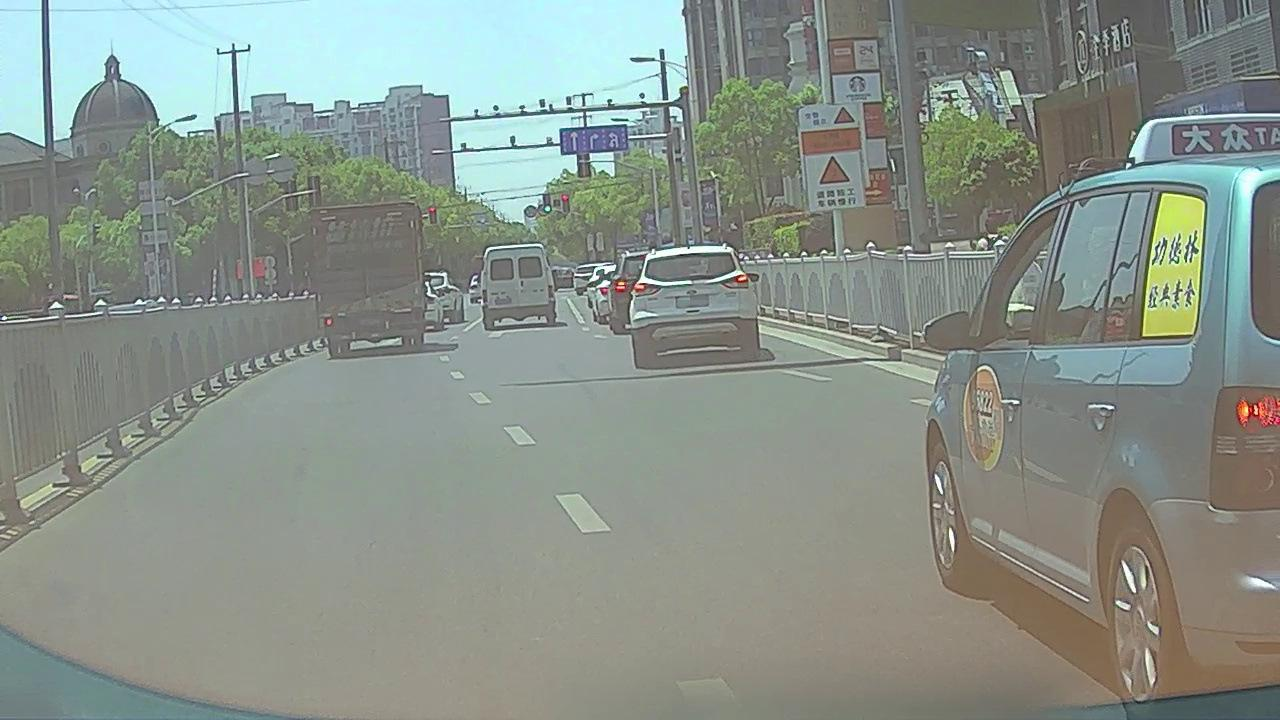traffic_light: (542, 194, 552, 213), (562, 195, 569, 215), (429, 207, 435, 224)
